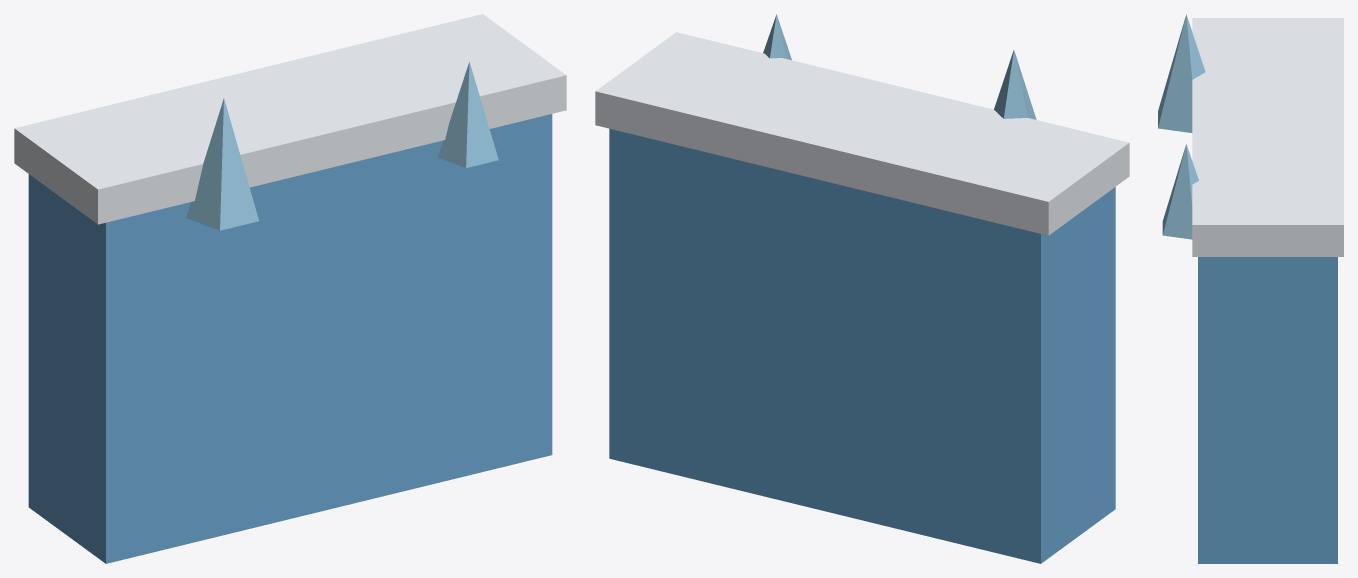
The model's file is ice_cliff_wall.glb.
3 views of the same model, side by side, from view 1: azimuth 30°, elevation 25°; view 2: azimuth 150°, elevation 25°; view 3: azimuth 270°, elevation 25° (orthographic). The views are drawn at different scales.
Visible parts, largest first — view 1: ice_cliff_wall; view 2: ice_cliff_wall; view 3: ice_cliff_wall.
Boxes of the visible parts, box(x1,y1,x2,y2) form: ice_cliff_wall: box(14, 14, 566, 563); ice_cliff_wall: box(595, 14, 1129, 563); ice_cliff_wall: box(1158, 14, 1343, 563).
Size of the model in its own units: 4.2 by 3.8 by 1.59.
